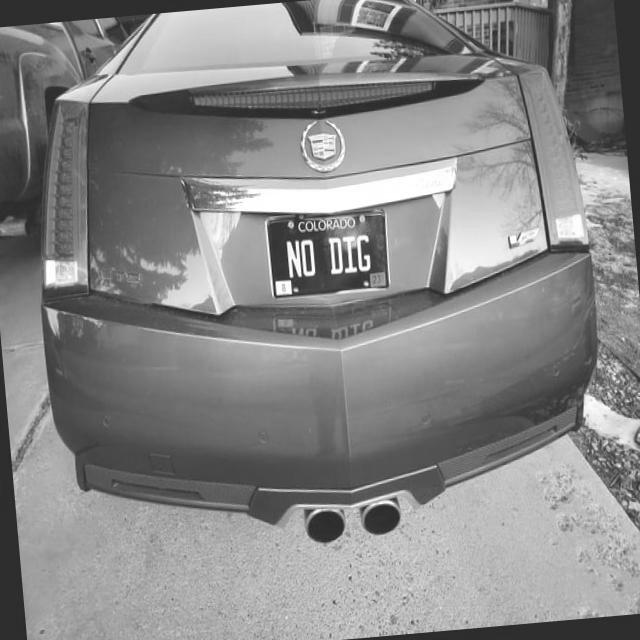LicensePlate: (263, 207, 391, 301)
